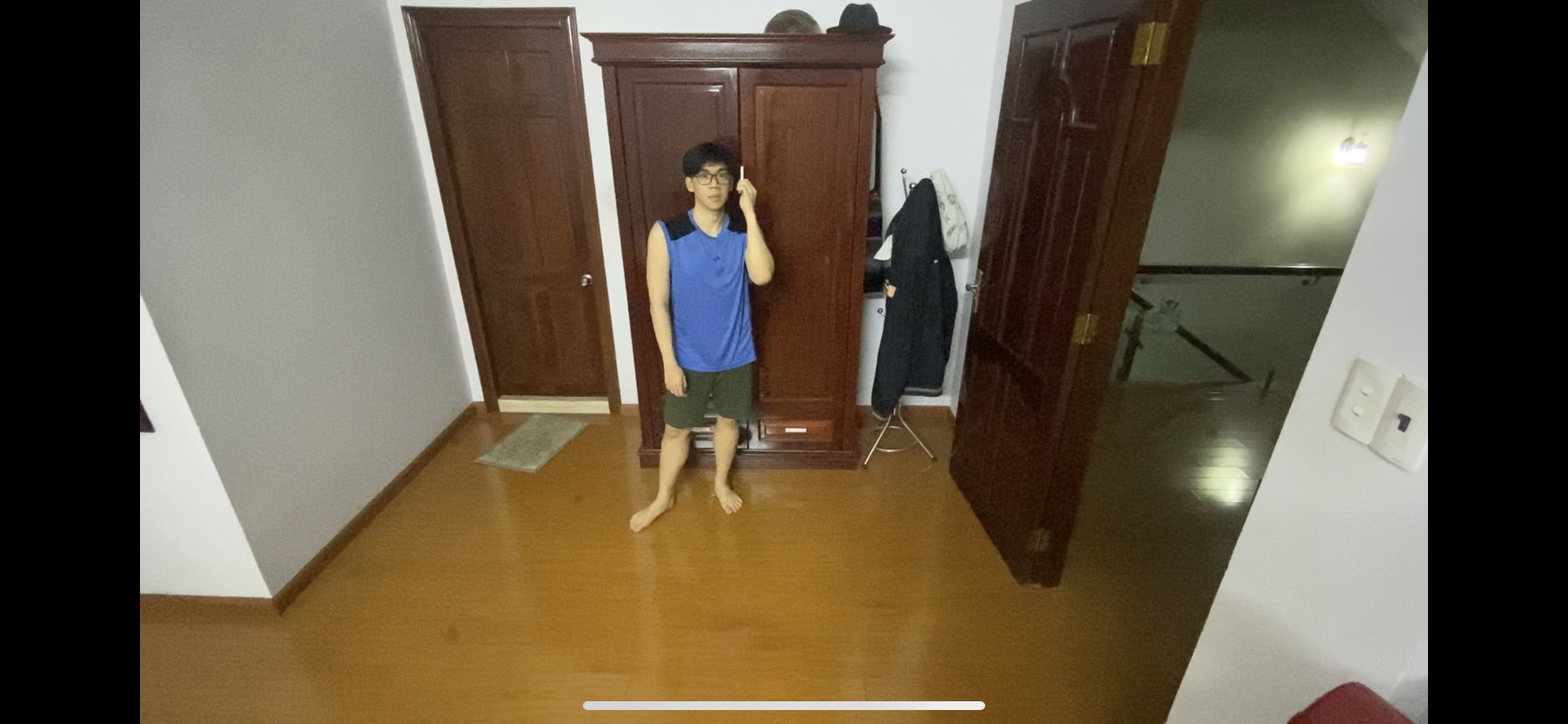cigarette: (739, 163, 751, 184)
person: (620, 128, 780, 533)
